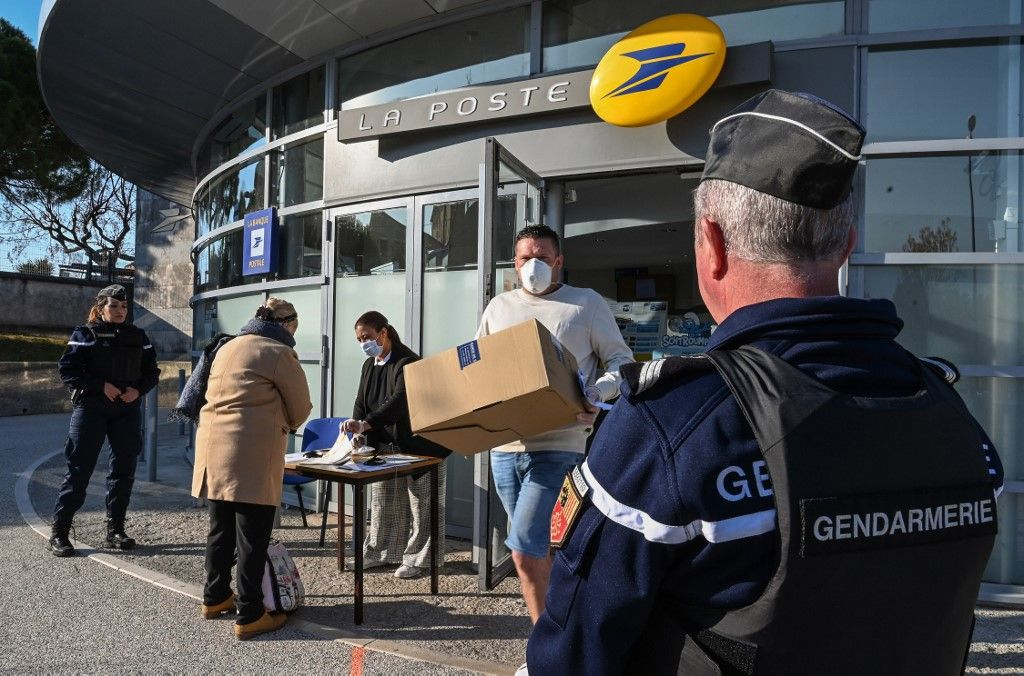with_mask: (511, 246, 568, 296), (354, 327, 395, 362)
without_mask: (95, 296, 132, 326)
